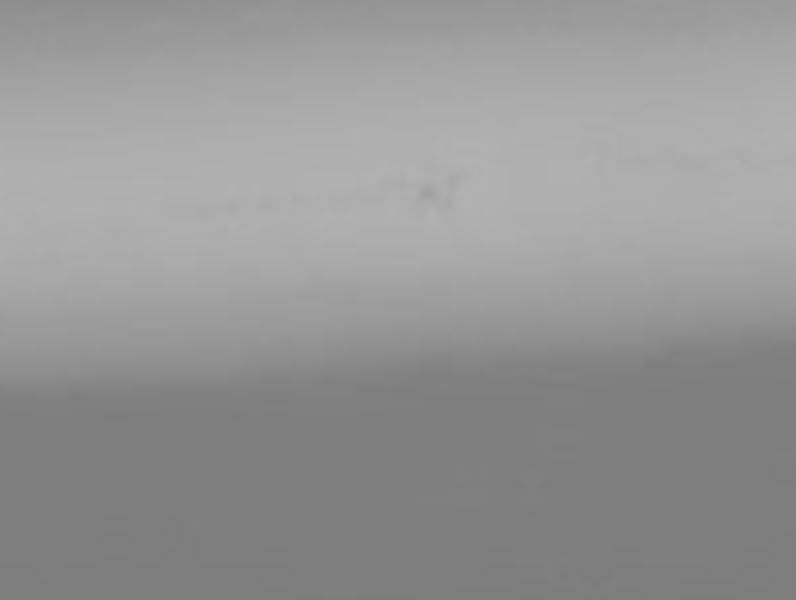defect: (416, 181, 439, 205)
